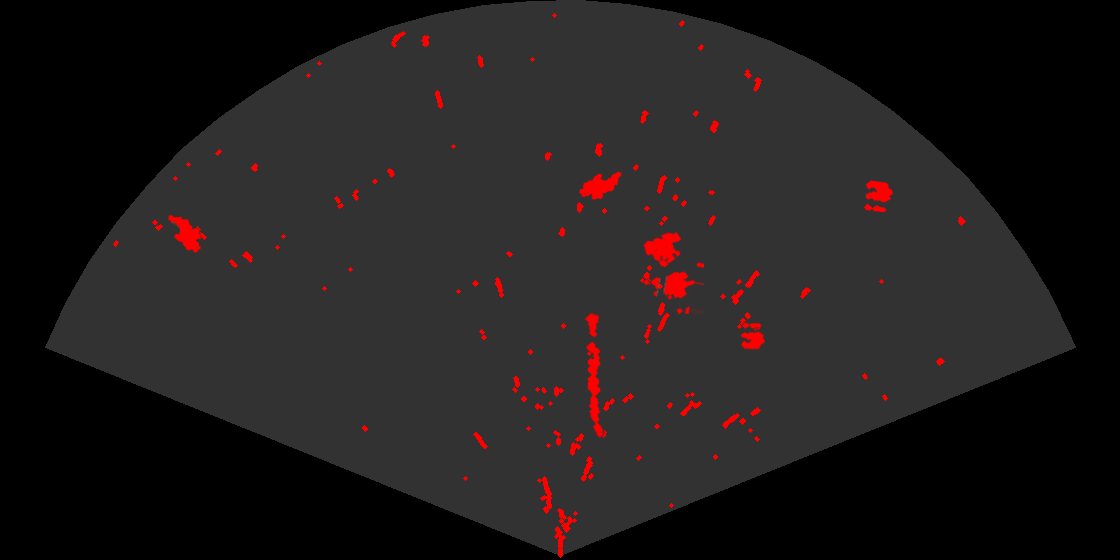AUV: (167, 213, 203, 254), (577, 170, 623, 201)
ball: (862, 179, 894, 214), (739, 321, 766, 351)
cage: (642, 230, 704, 314)
chain: (583, 311, 605, 438)
